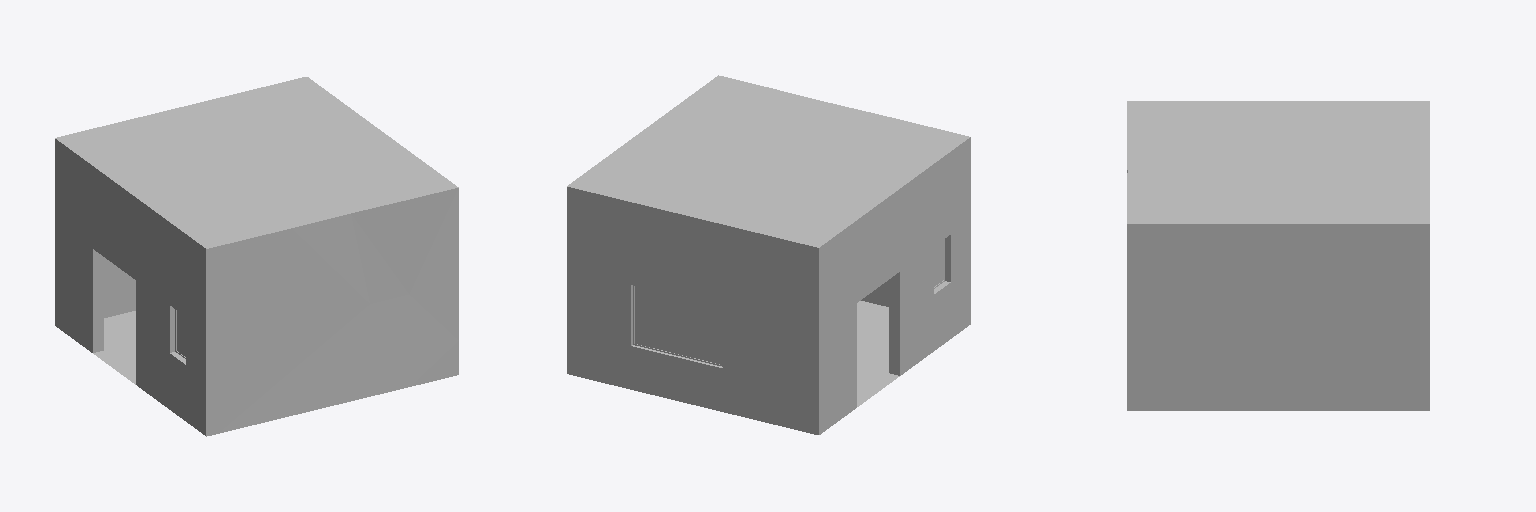
The model's file is solostanza.obj.
3 views of the same model, side by side, from view 1: azimuth 30°, elevation 25°; view 2: azimuth 150°, elevation 25°; view 3: azimuth 270°, elevation 25° (orthographic).
Visible parts, largest first — view 1: stanza__tagliata.4; view 2: stanza__tagliata.4; view 3: stanza__tagliata.4.
Part boxes in pixels (x1,y1,x2,y2): stanza__tagliata.4: (55, 77, 458, 436); stanza__tagliata.4: (567, 75, 970, 434); stanza__tagliata.4: (1127, 101, 1429, 410).
Size of the model in its own units: 605 by 430 by 637.